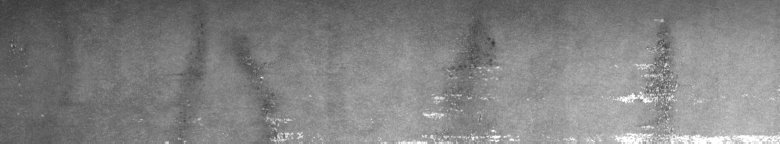hc: (609, 19, 764, 136)
